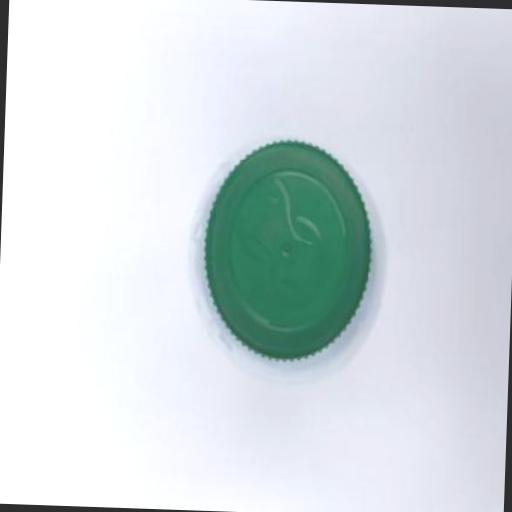plastic: (184, 134, 382, 380), (198, 133, 374, 364)
